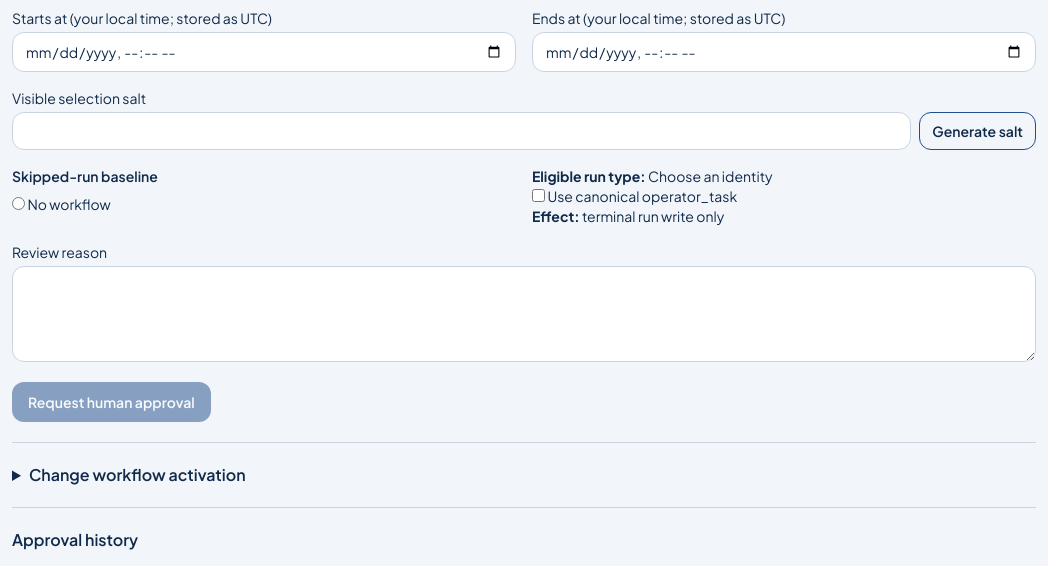
Test: AgentWorkflowActivationReviewPanel › drops selected rollback authority when target pagination observes a newer head
(page scrolled)
Click the heading "Change workflow activation" at (137, 474), box [29,464,246,485]
(page scrolled)
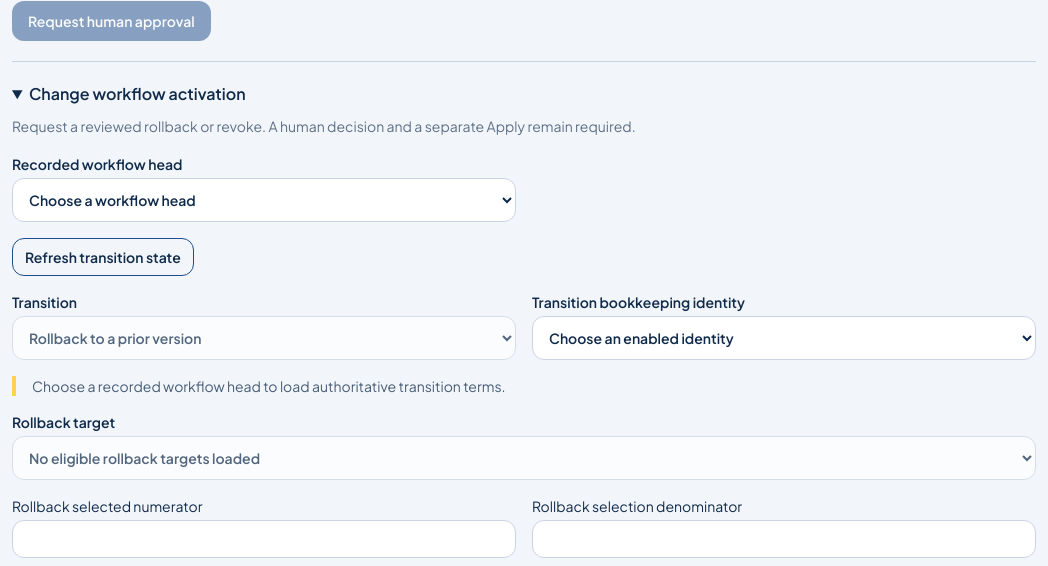
Select "review · revision 3" in the dropdown labelled "Recorded workflow head" at (264, 200), box [12,178,516,222]
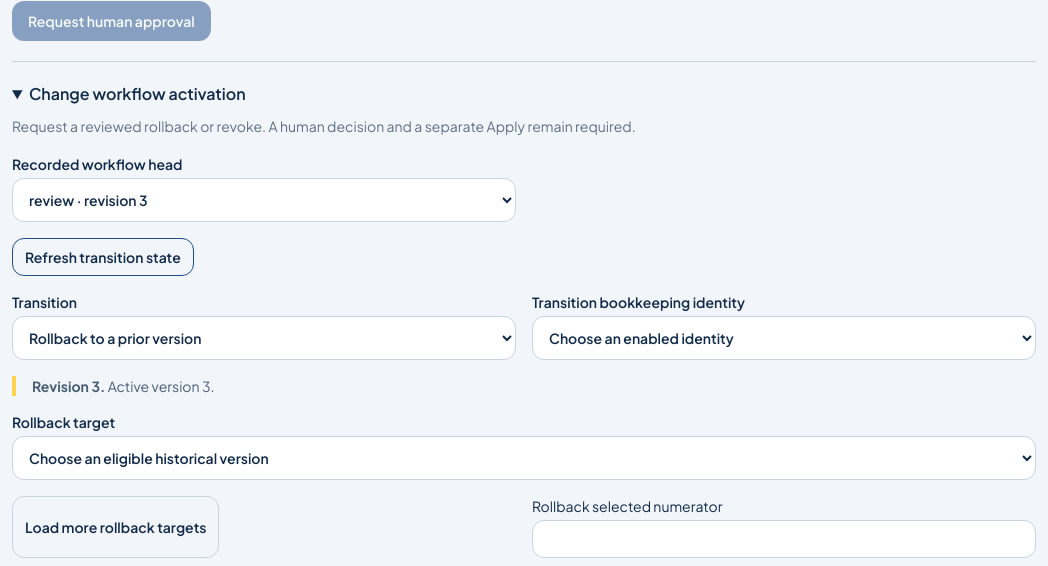
Select "Rollback to a prior version" in the dropdown named "Workflow transition" at (264, 338), box [12,316,516,360]
Select "Quality reviewer · quality" in the dropdown labelled "Transition bookkeeping identity" at (784, 338), box [532,316,1036,360]
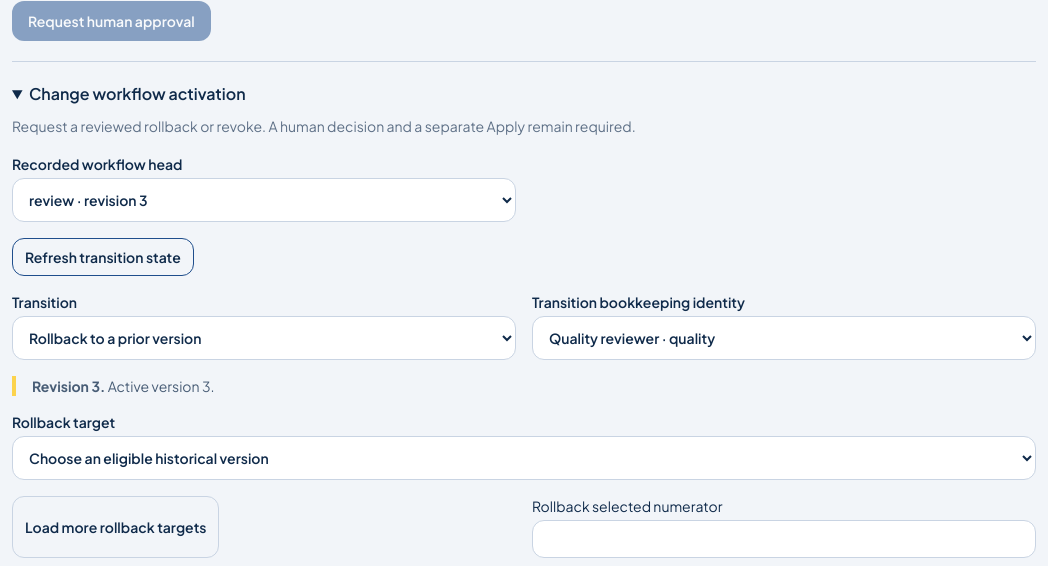
Select "Version 2" in the dropdown labelled "Rollback target" at (524, 458), box [12,436,1036,480]
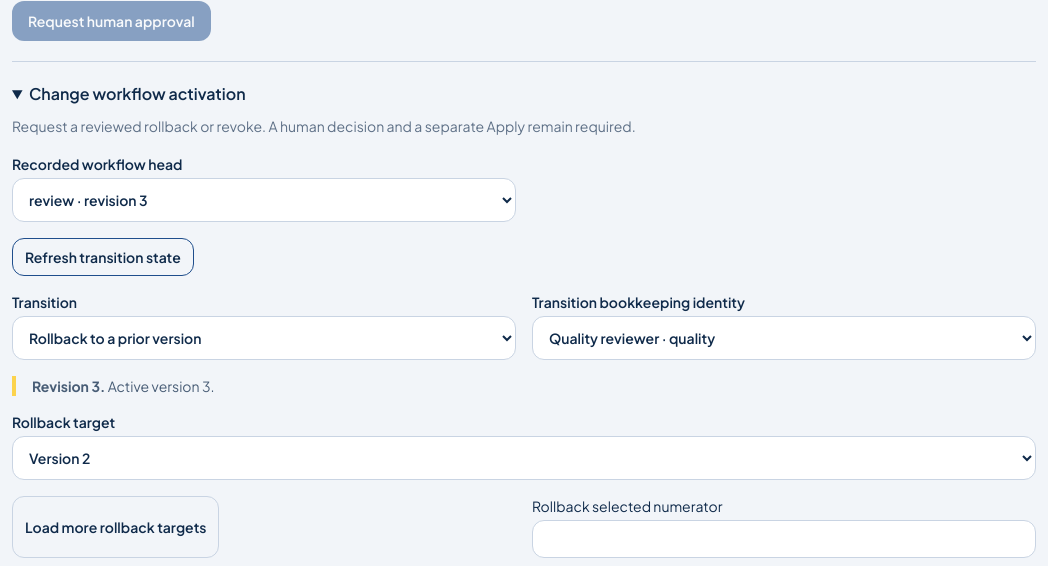
Click the button "Load more rollback targets" at (116, 527), box [12,496,220,558]
(page scrolled)
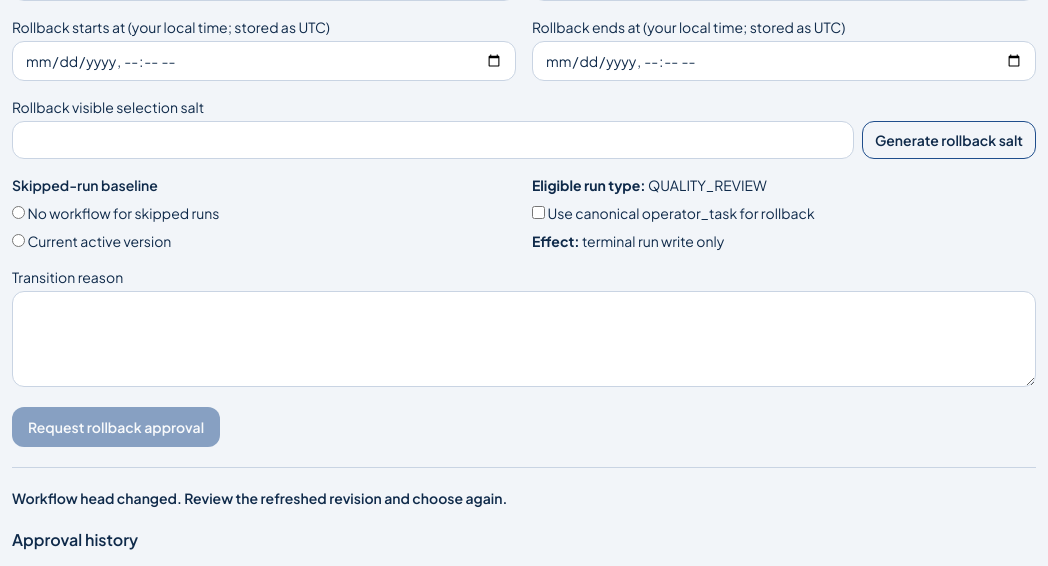
Expected: the button "Request rollback approval" is disabled, [12,407,220,447]
Expected: the text "Workflow head changed. Review the refreshed revision and choose again." is shown, [12,489,507,507]
